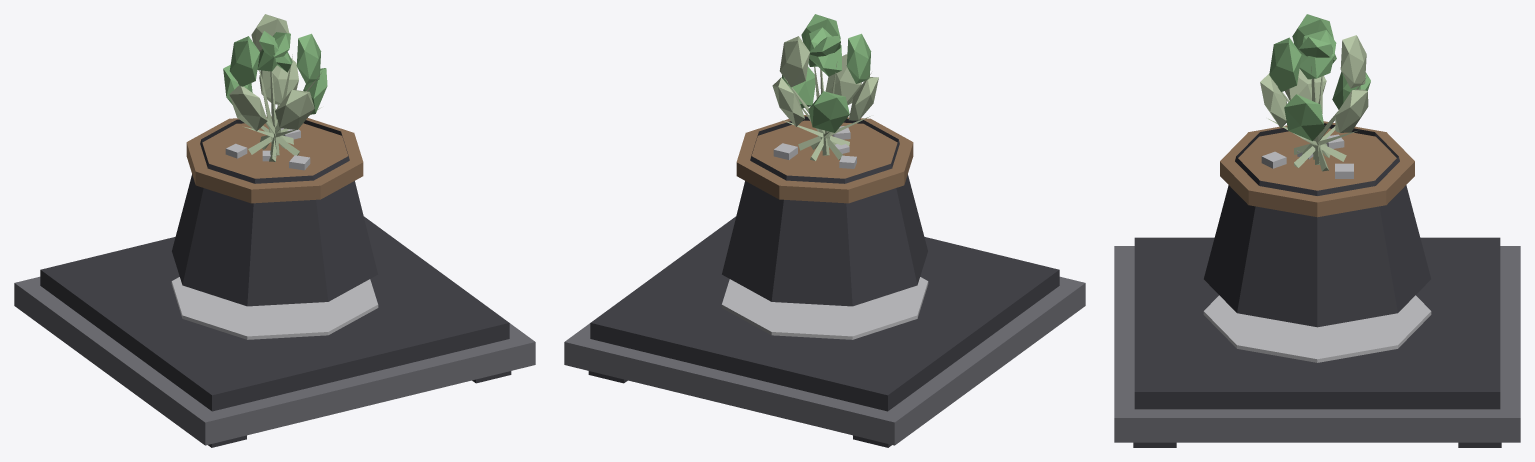
Rendered from floating-decor-B7u78-X7.glb.
The picture shows the model from 3 angles, left to right: view 1: azimuth 30°, elevation 25°; view 2: azimuth 150°, elevation 25°; view 3: azimuth 270°, elevation 25°; orthographic projection. The views are drawn at different scales.
Visible parts, largest first — view 1: base, plant_float; view 2: base, plant_float; view 3: base, plant_float.
Part boxes in pixels (left/top/right/bottom): base: left=14, top=216, right=535, bottom=447; plant_float: left=172, top=14, right=377, bottom=306; base: left=564, top=216, right=1085, bottom=447; plant_float: left=722, top=14, right=927, bottom=306; base: left=1114, top=237, right=1520, bottom=447; plant_float: left=1204, top=14, right=1430, bottom=327.
Size of the model in its own units: 1.5 by 1.38 by 1.5.
